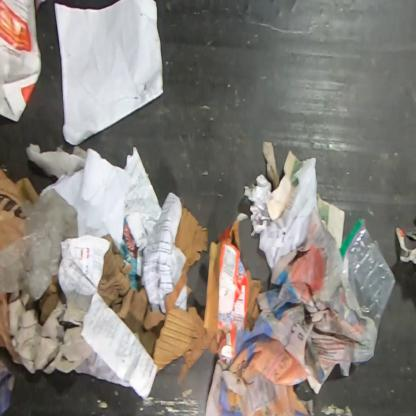cardboard: (98, 234, 166, 359), (152, 269, 218, 385), (203, 219, 249, 363), (175, 204, 209, 273), (247, 268, 264, 331)
soft_plastic: (0, 187, 81, 303), (338, 218, 397, 338), (0, 167, 27, 253), (0, 292, 22, 365)
